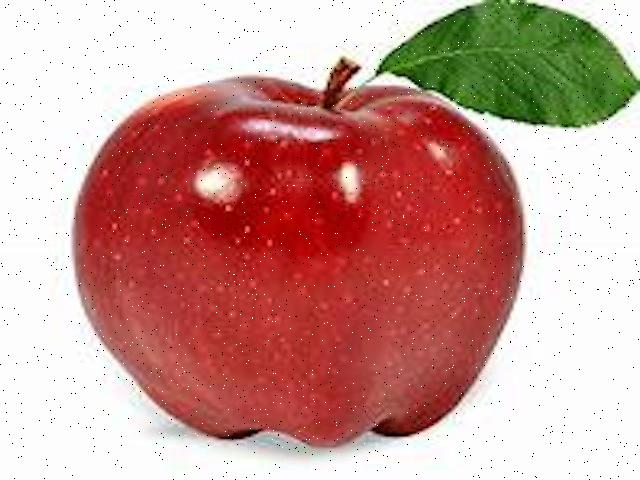apple: (57, 4, 640, 451)
